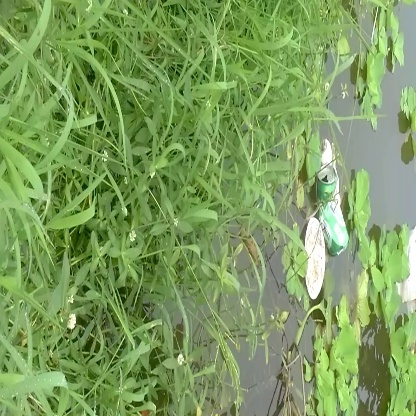bottle: (311, 164, 352, 257)
